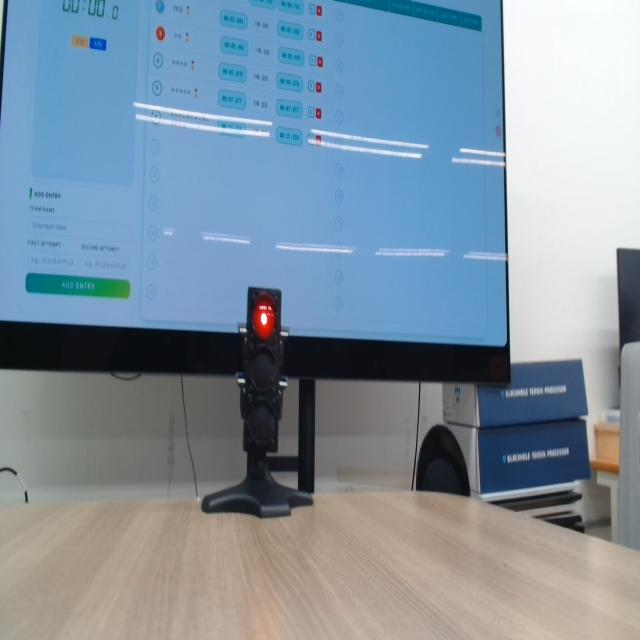red_light: (253, 295, 275, 340)
